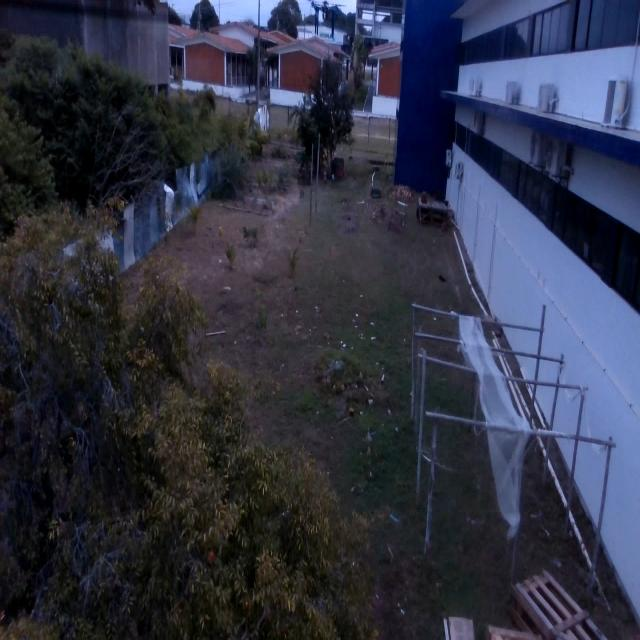-uav-: (304, 0, 348, 50)
